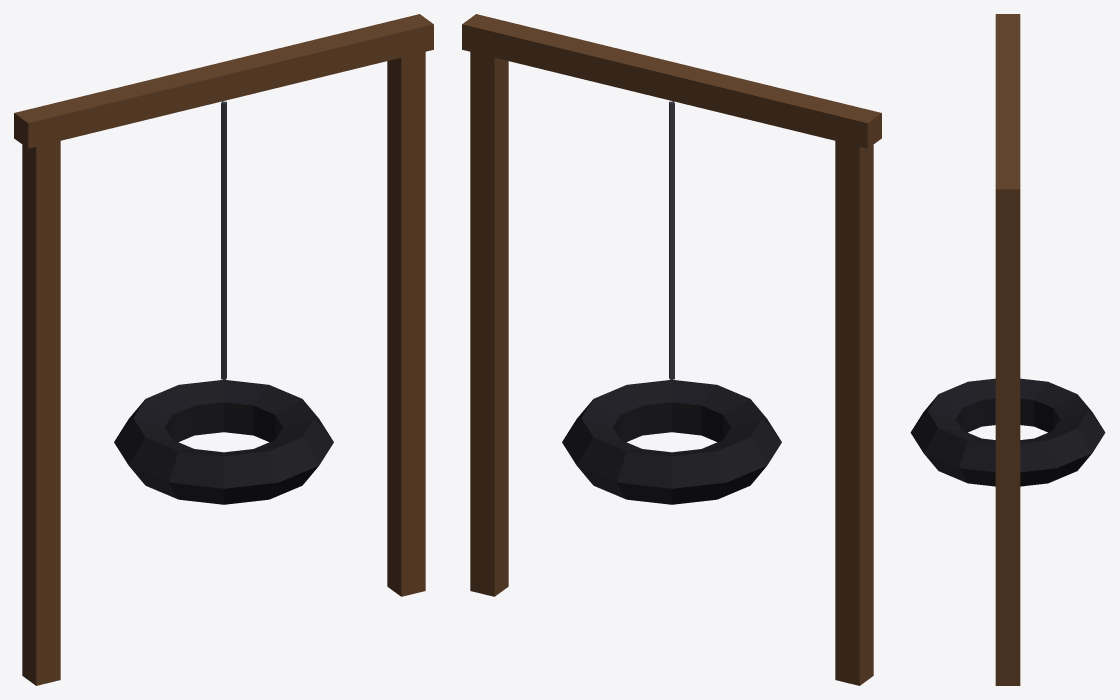
The model's file is tire_swing.glb.
The picture shows the model from 3 angles, left to right: view 1: azimuth 30°, elevation 25°; view 2: azimuth 150°, elevation 25°; view 3: azimuth 270°, elevation 25°; orthographic projection. The views are drawn at different scales.
Parts seen in each view (by area): view 1: tire_swing; view 2: tire_swing; view 3: tire_swing.
Part boxes in pixels (bbox=[...]): tire_swing: bbox=[14, 14, 433, 685]; tire_swing: bbox=[462, 14, 881, 685]; tire_swing: bbox=[910, 14, 1105, 685].
Bounding box in the file's own units: 2 × 2.66 × 0.94.
